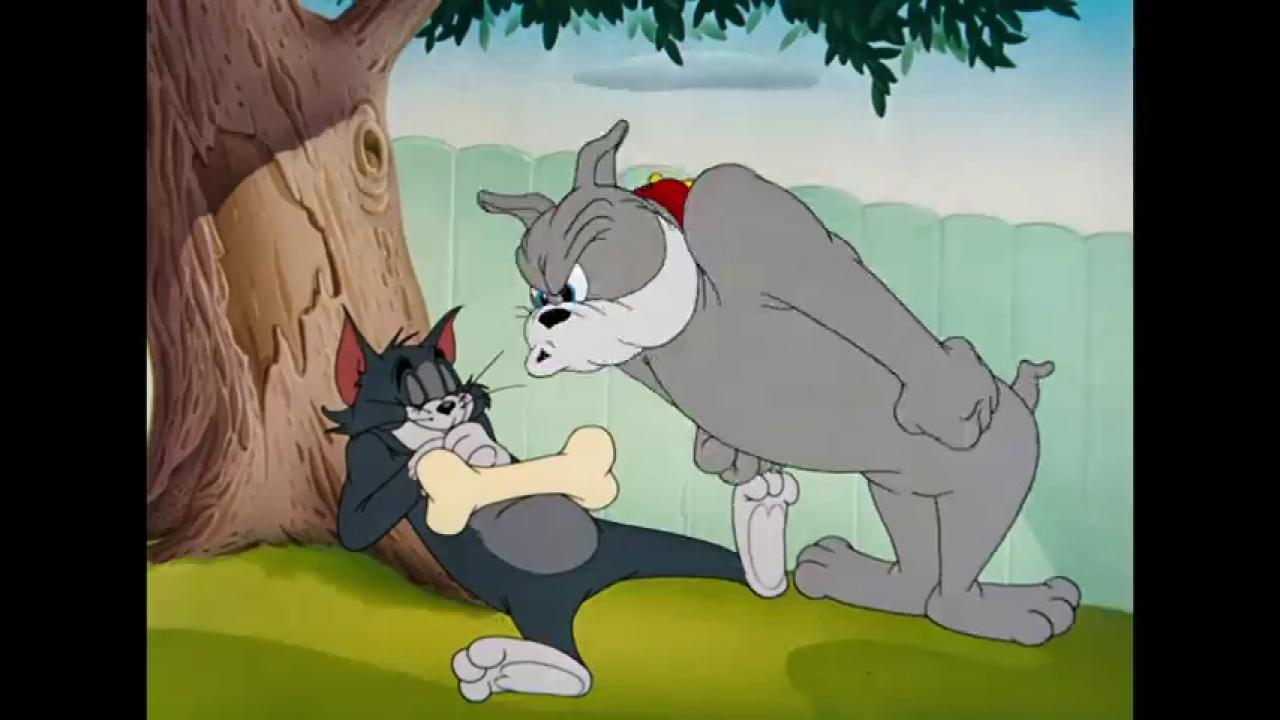Tom: (319, 302, 802, 704)
